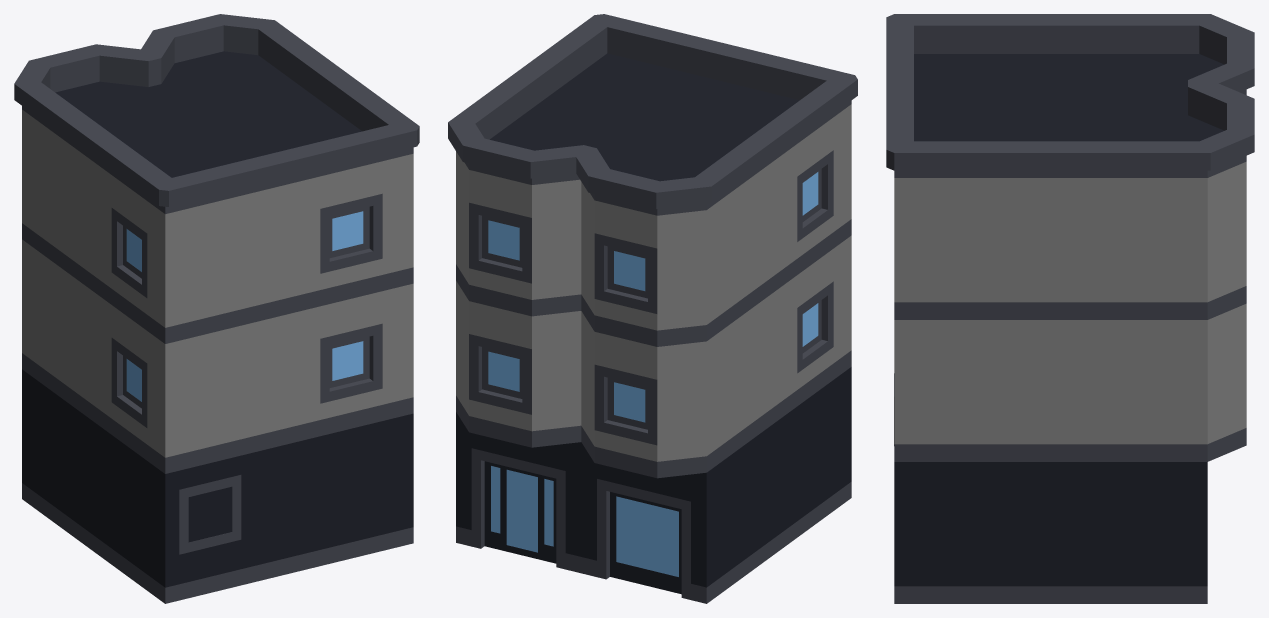
The model's file is variant_20.obj.
3 views of the same model, side by side, from view 1: azimuth 30°, elevation 25°; view 2: azimuth 150°, elevation 25°; view 3: azimuth 270°, elevation 25° (orthographic). The views are drawn at different scales.
Visible parts, largest first — view 1: Building, Building_copy, Window_copy; view 2: Building; view 3: Building.
Boxes of the visible parts, x1,y1,x2,y2 form: Building: (14, 14, 419, 603); Building_copy: (165, 415, 409, 586); Window_copy: (179, 475, 241, 554); Building: (448, 14, 857, 603); Building: (886, 14, 1254, 603).
Size of the model in its own units: 0.84 by 1.28 by 0.94.
